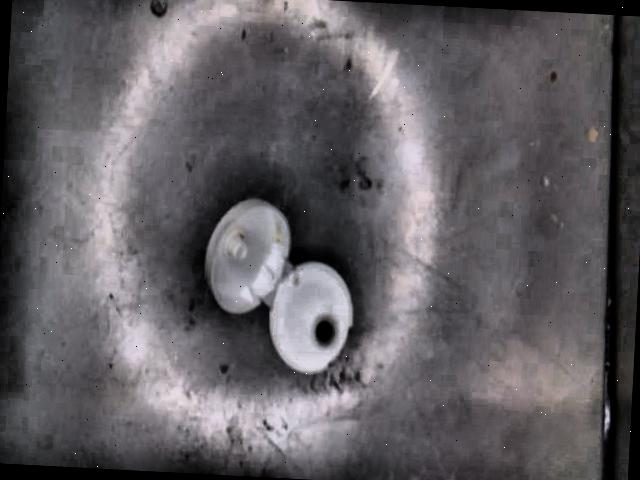Plastic: (202, 201, 366, 371)
